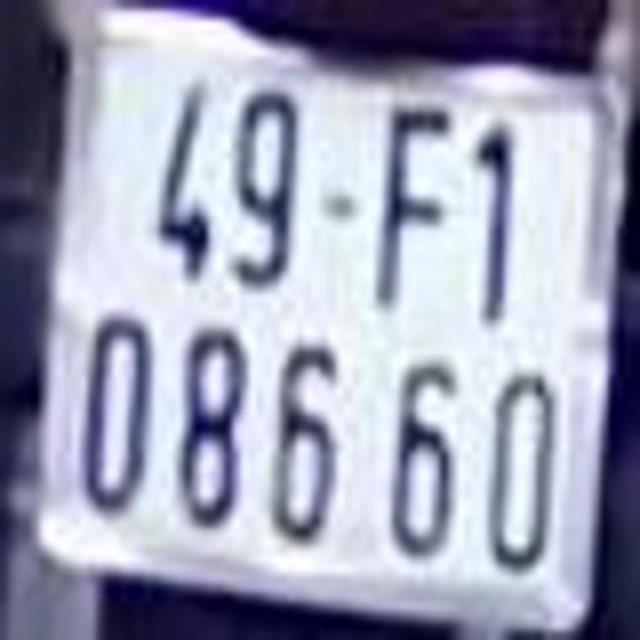0: (488, 374, 555, 572), (84, 316, 152, 510)
1: (472, 117, 516, 326)
4: (160, 70, 220, 284)
6: (392, 361, 461, 561), (274, 340, 337, 543)
8: (183, 326, 244, 524)
9: (235, 90, 295, 289)
F: (375, 96, 448, 311)
